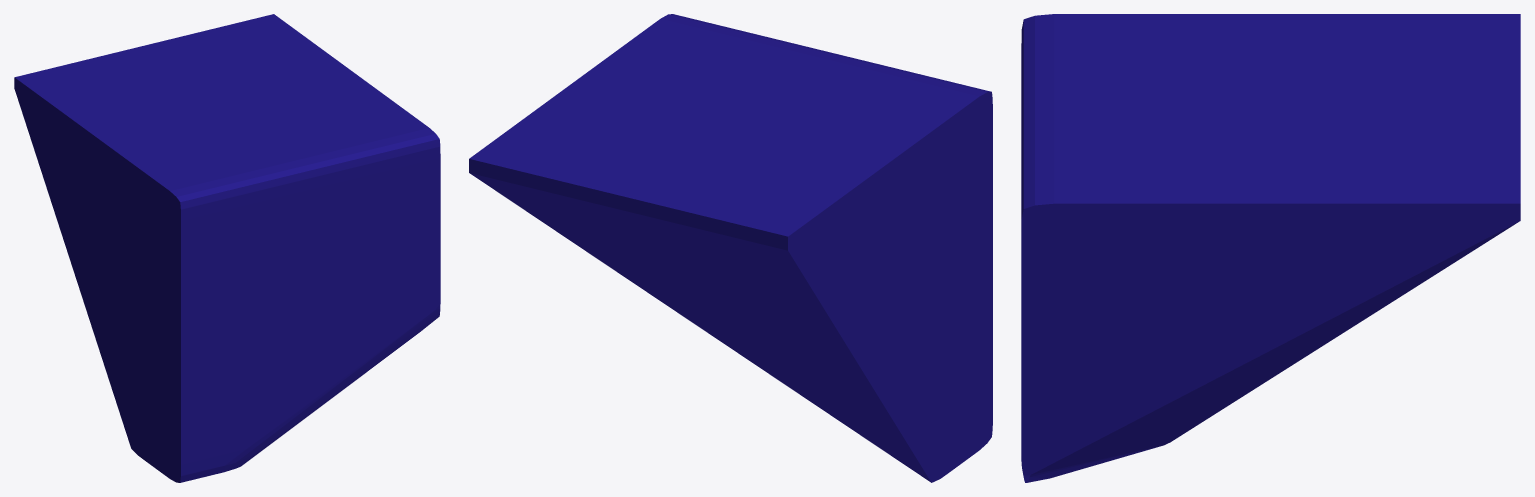
The model's file is left_hip_yaw_link_part_20.obj.
3 renders of one model, left to right at view 1: azimuth 30°, elevation 25°; view 2: azimuth 150°, elevation 25°; view 3: azimuth 270°, elevation 25°, orthographic. The views are drawn at different scales.
Size of the model in its own units: 0.0315 by 0.0334 by 0.035.
